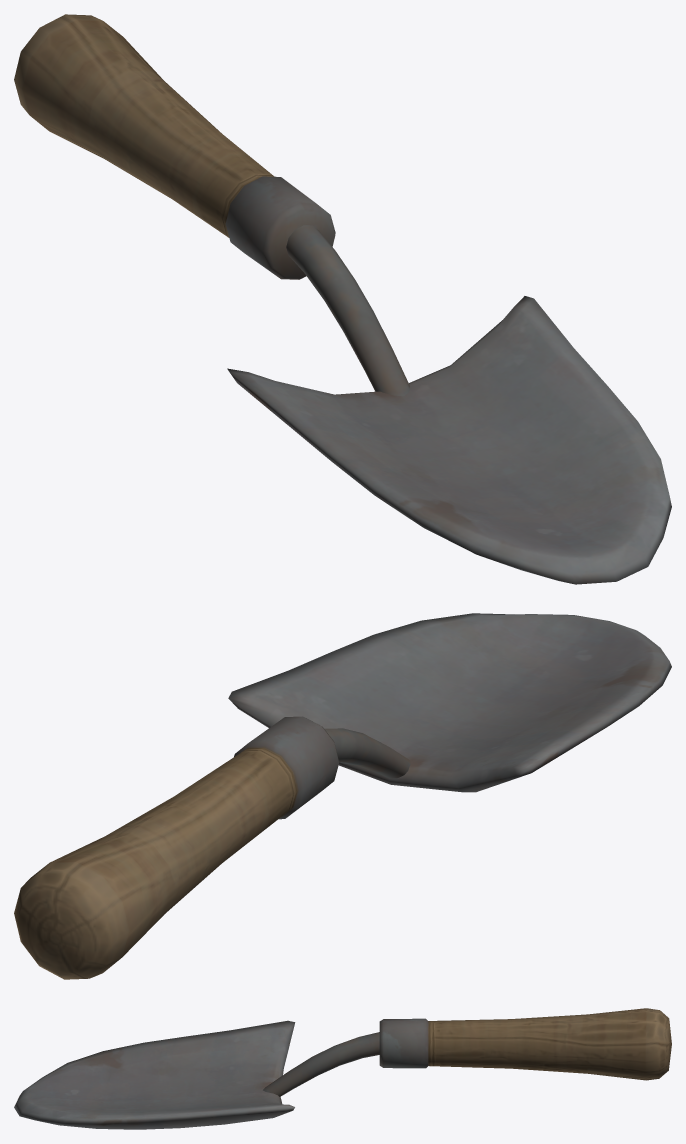
Rendered from SM_Farm_Garden_Trowel_01.fbx.
3 renders of one model, top to bottom at view 1: azimuth 30°, elevation 25°; view 2: azimuth 150°, elevation 25°; view 3: azimuth 270°, elevation 25°, orthographic. The views are drawn at different scales.
Parts seen in each view (by area): view 1: SM_Farm_Garden_Trowel_01_LOD0; view 2: SM_Farm_Garden_Trowel_01_LOD0; view 3: SM_Farm_Garden_Trowel_01_LOD0.
Part boxes in pixels (x1=…): SM_Farm_Garden_Trowel_01_LOD0: x1=14, y1=14, x2=671, y2=584; SM_Farm_Garden_Trowel_01_LOD0: x1=14, y1=613, x2=671, y2=979; SM_Farm_Garden_Trowel_01_LOD0: x1=14, y1=1008, x2=671, y2=1129.
Size of what is drawn, in the model's own units: 0.1637 by 0.0936 by 0.5264.
